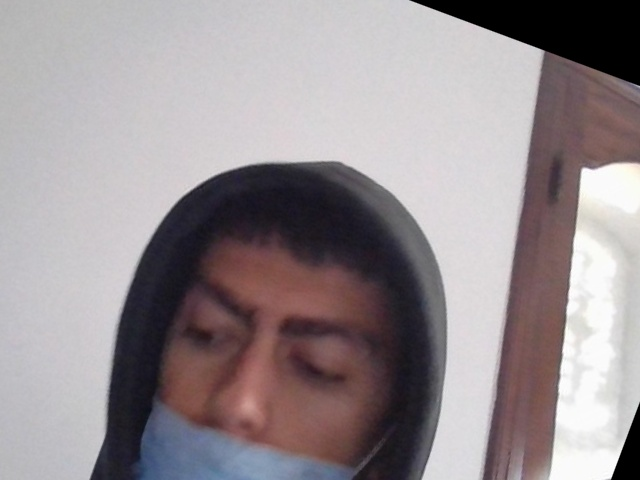mask_weared_incorrect: (120, 182, 394, 479)
